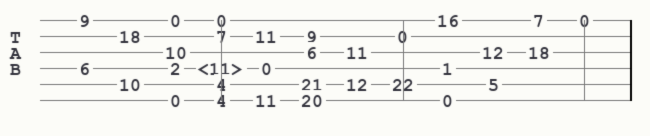0: (170, 92, 185, 108), (170, 12, 185, 28), (216, 12, 231, 28), (261, 60, 276, 76), (397, 28, 412, 44), (442, 92, 457, 108), (579, 12, 594, 28)
1: (442, 60, 457, 76)
10: (119, 76, 145, 92), (165, 44, 191, 60)
11: (255, 92, 281, 108), (255, 28, 281, 44), (346, 44, 372, 60)
12: (346, 76, 372, 92), (482, 44, 508, 60)
16: (437, 12, 463, 28)
18: (119, 28, 145, 44), (528, 44, 554, 60)
2: (170, 60, 185, 76)
20: (301, 92, 327, 108)
21: (301, 76, 327, 92)
22: (392, 76, 418, 92)
4: (216, 92, 231, 108), (216, 76, 231, 92)
5: (488, 76, 503, 92)
6: (79, 60, 94, 76), (306, 44, 321, 60)
7: (216, 28, 231, 44), (533, 12, 548, 28)
9: (79, 12, 94, 28), (306, 28, 321, 44)
harmonic: (198, 60, 248, 76)
